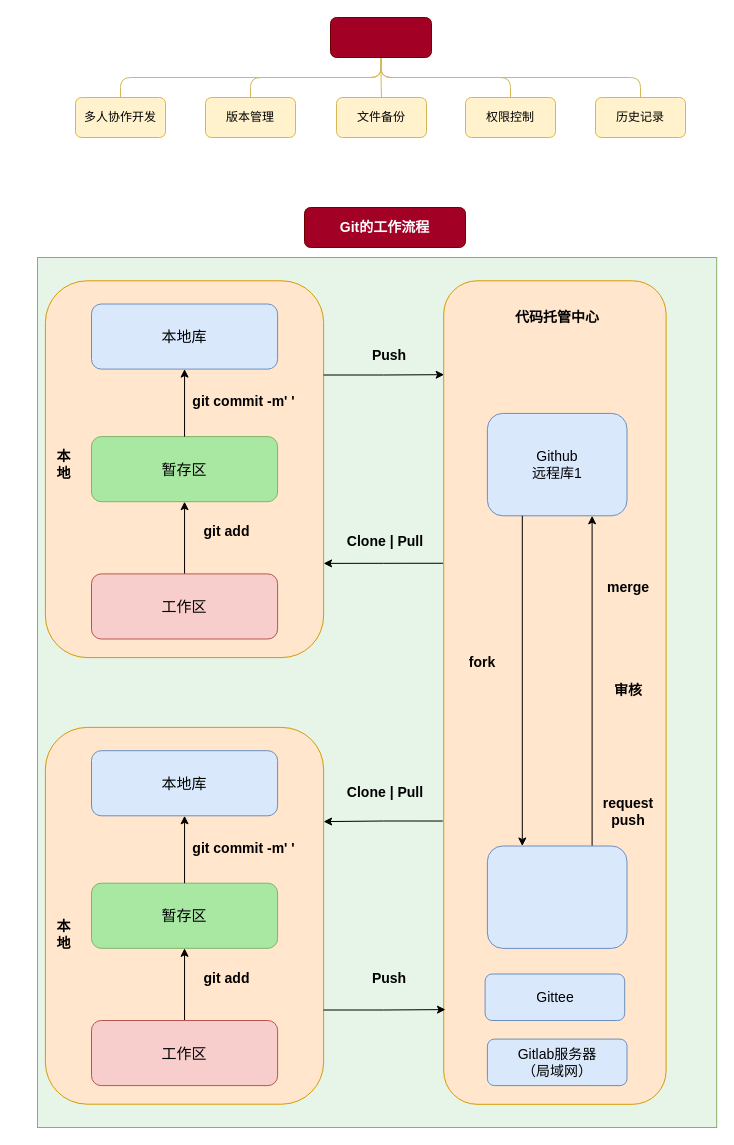
The diagram is 734 pixels wide and 1145 high, and some of its shapes have lost their labels. Each missing label, with the centre of its shape:
"Github 远程库2" belongs at point 556,896.
"Git的作用" belongs at point 381,37.
